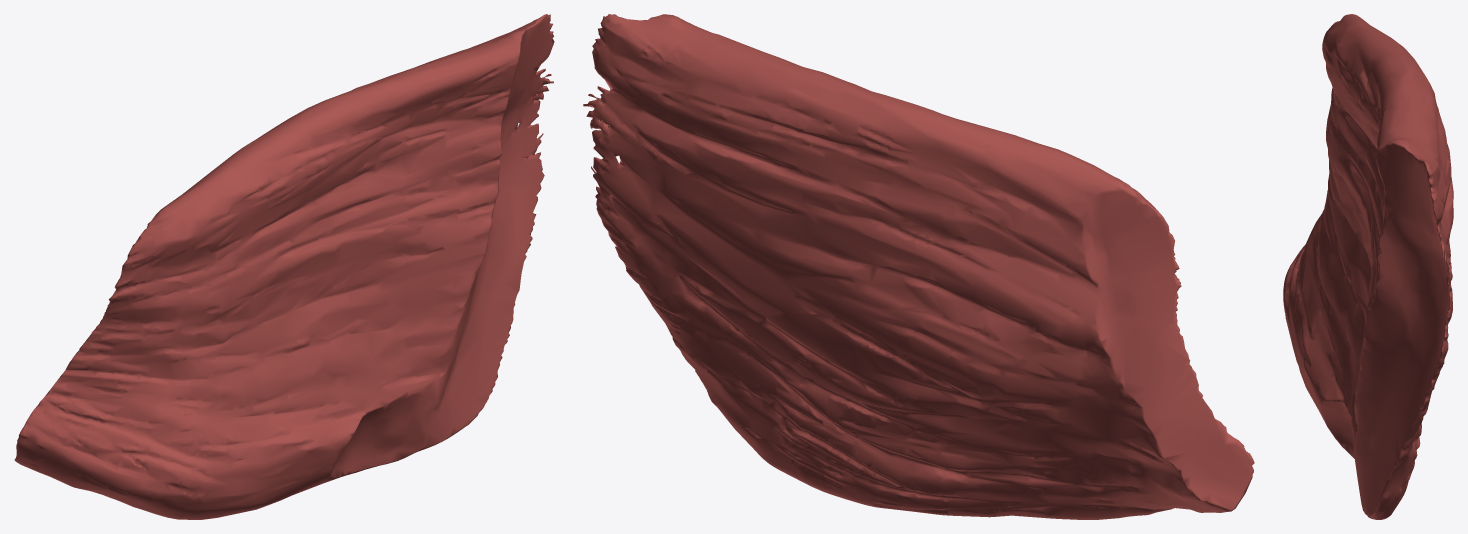
Rendered from FMA22339.glb.
3 renders of one model, left to right at view 1: azimuth 30°, elevation 25°; view 2: azimuth 150°, elevation 25°; view 3: azimuth 270°, elevation 25°, orthographic. The views are drawn at different scales.
Parts seen in each view (by area): view 1: FMA22339; view 2: FMA22339; view 3: FMA22339.
Part boxes in pixels (box(x1,y1,x2,y2)): FMA22339: box(14, 14, 554, 519); FMA22339: box(583, 14, 1254, 519); FMA22339: box(1283, 14, 1453, 519).
Bounding box in the file's own units: 0.0666 × 0.0443 × 0.0156.
